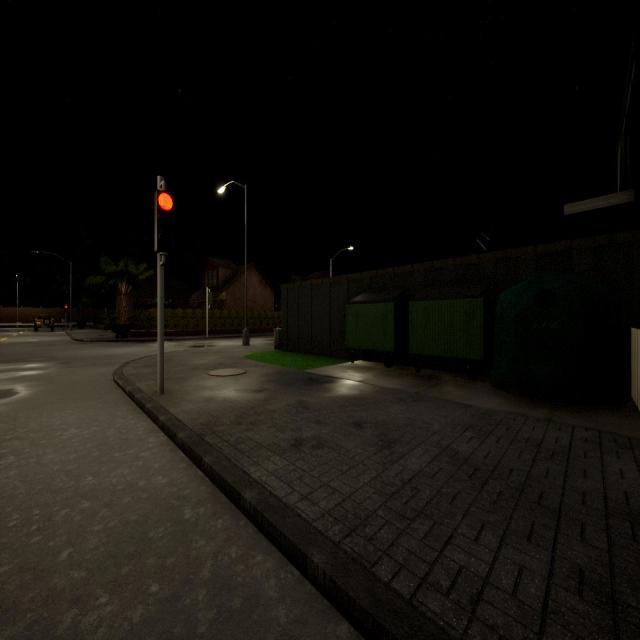Vehicle: (34, 311, 54, 332)
traffic_light: (155, 189, 174, 254), (208, 292, 213, 305), (64, 304, 68, 312)
